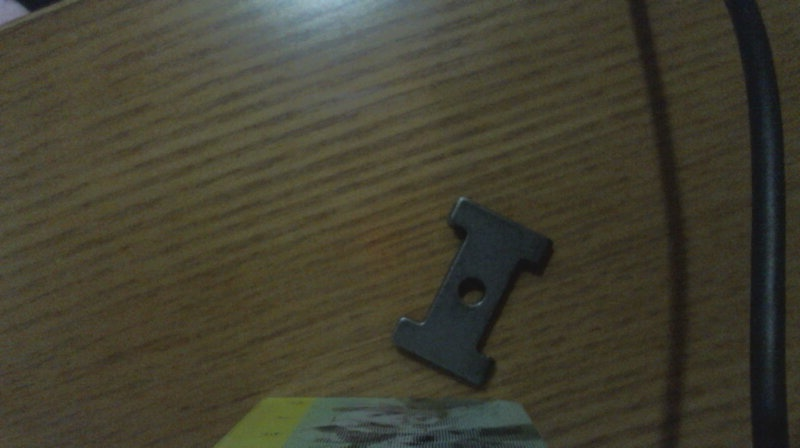O002: (391, 193, 556, 389)
